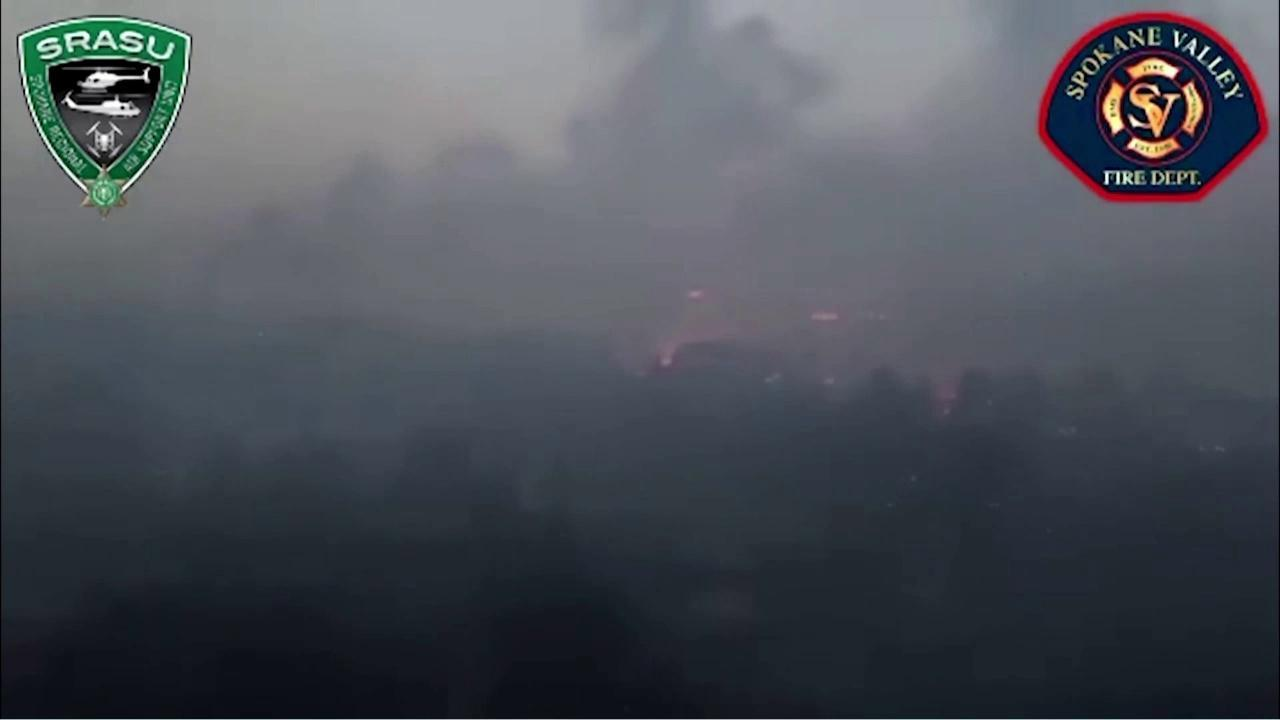fire: (807, 309, 841, 325), (659, 343, 680, 366), (686, 284, 709, 301)
smoke: (3, 0, 1280, 720)
